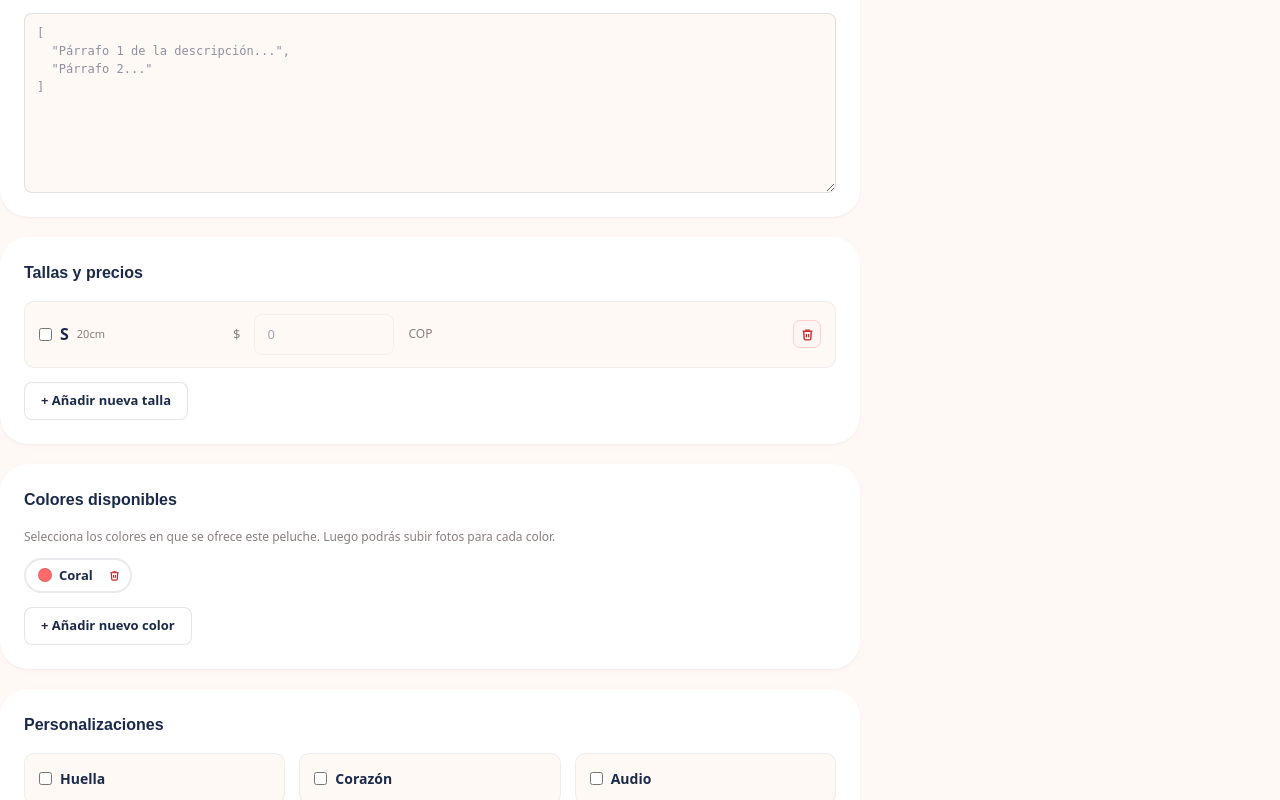
Test: PeluchForm › opens size modal when "Añadir nueva talla" button is clicked
(page scrolled)
What coordinates should you click on to do the following:
click the button "+ Añadir nueva talla"
I would click on:
 (106, 401)
Its box is left=24, top=382, right=188, bottom=420.
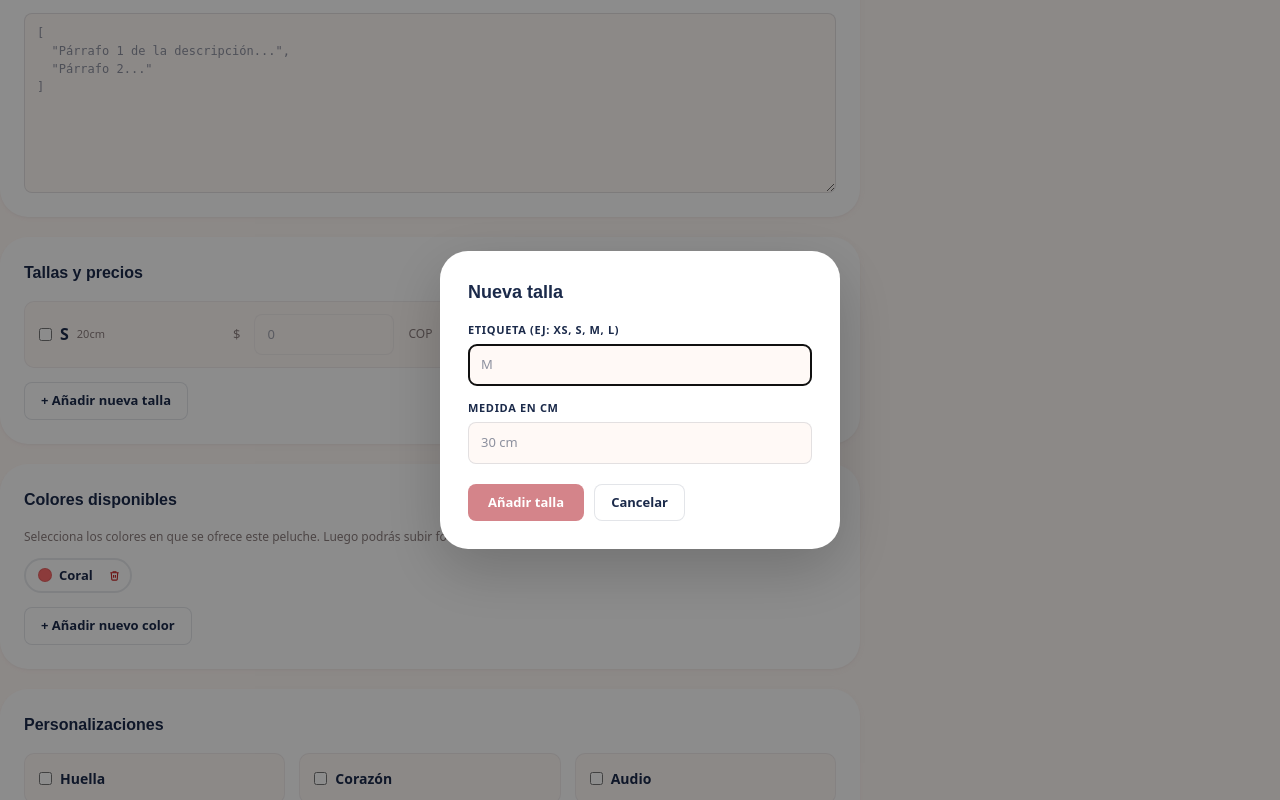
Expected: the heading "Nueva talla" is shown, left=468, top=282, right=563, bottom=302
